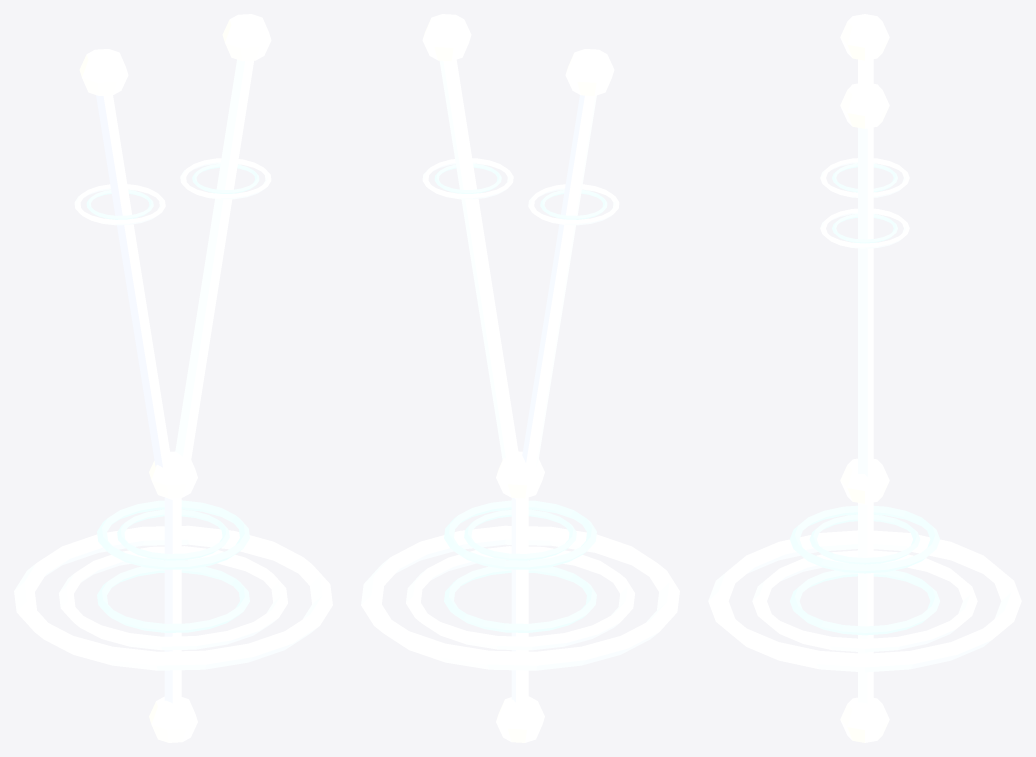
The model's file is neuron5.glb.
3 views of the same model, side by side, from view 1: azimuth 30°, elevation 25°; view 2: azimuth 150°, elevation 25°; view 3: azimuth 270°, elevation 25° (orthographic). The views are drawn at different scales.
Parts seen in each view (by area): view 1: n5; view 2: n5; view 3: n5.
Boxes of the visible parts, x1,y1,x2,y2 form: n5: [14, 14, 332, 742]; n5: [361, 14, 679, 742]; n5: [708, 14, 1021, 742].
Size of what is drawn, in the model's own units: 2.14 by 5.23 by 2.14.
Materials: 1 (1 with a texture image).
